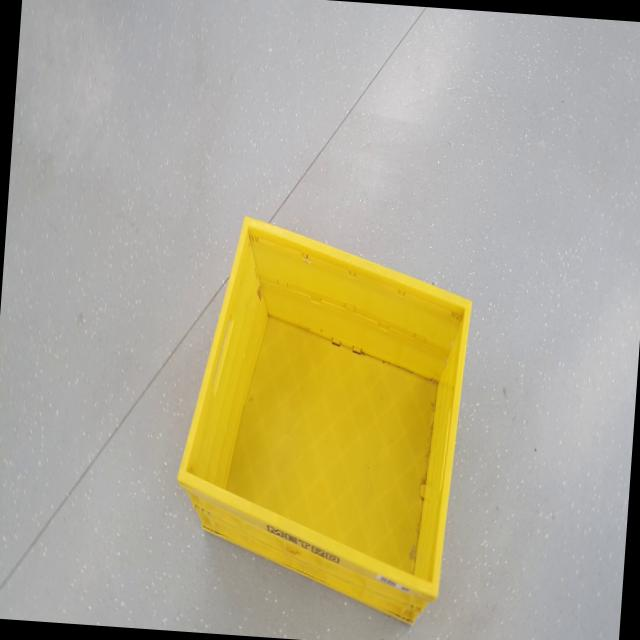box: (164, 196, 480, 638)
